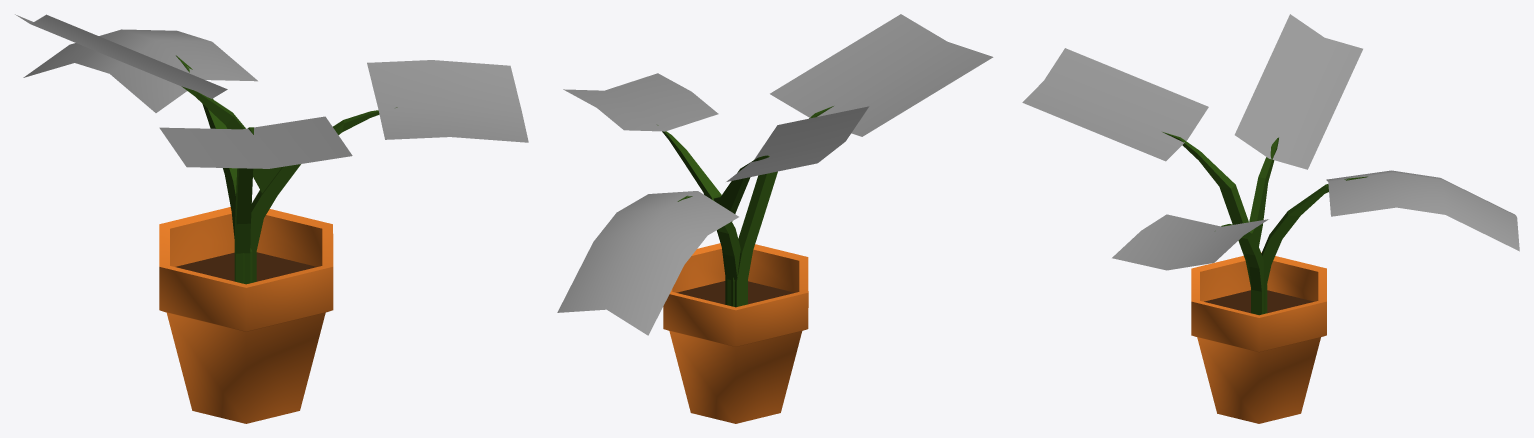
The model's file is planta_petita.FBX.
The picture shows the model from 3 angles, left to right: view 1: azimuth 30°, elevation 25°; view 2: azimuth 150°, elevation 25°; view 3: azimuth 270°, elevation 25°; orthographic projection. The views are drawn at different scales.
Visible parts, largest first — view 1: Cylinder002; view 2: Cylinder002; view 3: Cylinder002.
Boxes of the visible parts, x1,y1,x2,y2 form: Cylinder002: [15, 14, 528, 423]; Cylinder002: [557, 14, 993, 423]; Cylinder002: [1022, 14, 1519, 423].
Size of the model in its own units: 7.7 by 7.22 by 10.14.
